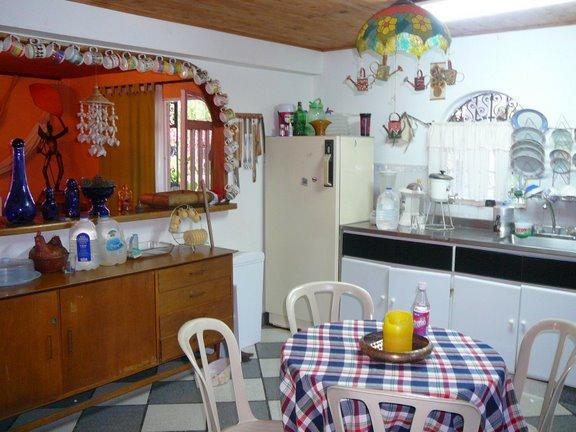Armario: (6, 250, 233, 421)
Electrodomestico: (270, 138, 341, 279)
Lavaplatos: (495, 186, 575, 258)
